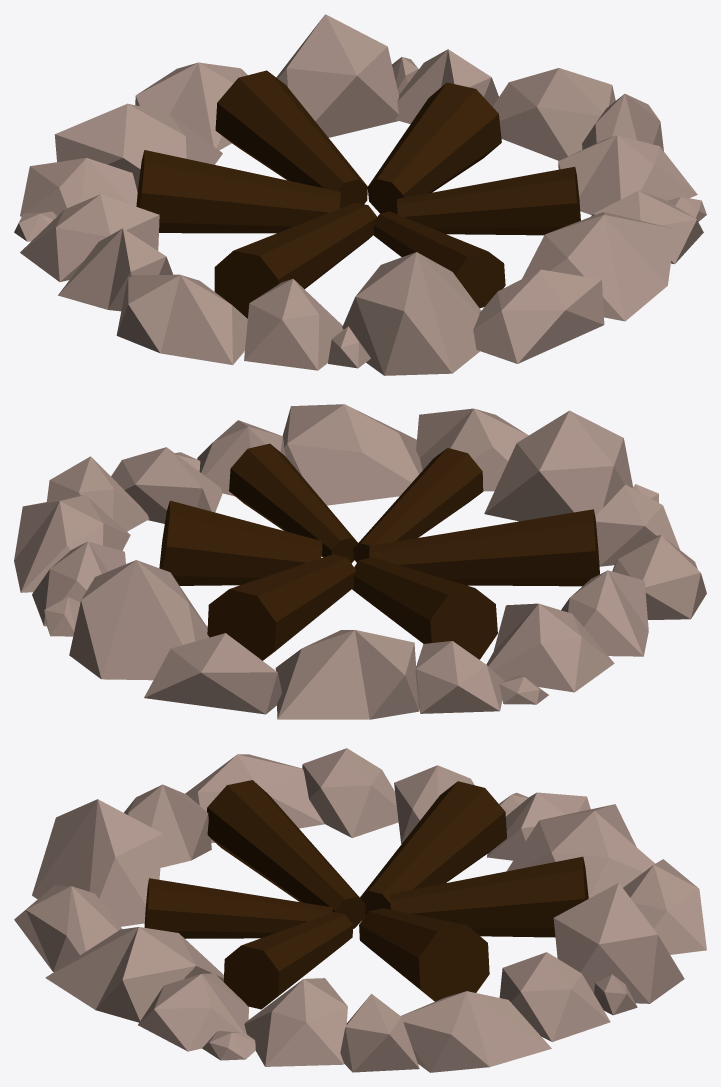
File: firepit.fbx
3 renders of one model, top to bottom at view 1: azimuth 30°, elevation 25°; view 2: azimuth 150°, elevation 25°; view 3: azimuth 270°, elevation 25°, orthographic. The views are drawn at different scales.
Parts seen in each view (by area): view 1: rock_GEO10, pCylinder2, pCylinder1, rock_GEO1, rock_GEO7, pCylinder6, pCylinder5, rock_GEO13, rock_GEO9, pCylinder3, rock_GEO4, rock1:rock_GEO2 (+13 smaller); view 2: pCylinder3, rock_GEO1, rock1:rock_GEO2, rock_GEO10, rock_GEO7, pCylinder6, pCylinder1, pCylinder2, rock2:rock_GEO3, rock_GEO3, pCylinder5, rock_GEO4 (+12 smaller); view 3: rock_GEO10, pCylinder3, pCylinder1, rock_GEO1, rock_GEO7, pCylinder2, rock_GEO4, pCylinder6, pCylinder4, rock1:rock_GEO2, rock_GEO6, pCylinder5 (+12 smaller).
Part boxes in pixels (x1,y1,x2,y2): rock_GEO10: (342, 252, 481, 375); pCylinder2: (136, 150, 340, 233); pCylinder1: (215, 70, 367, 208); rock_GEO1: (276, 14, 398, 137); rock_GEO7: (522, 212, 675, 321); pCylinder6: (368, 82, 501, 214); pCylinder5: (397, 166, 580, 235); rock_GEO13: (116, 274, 247, 364); rock_GEO9: (473, 269, 604, 363); pCylinder3: (214, 202, 376, 318); rock_GEO4: (493, 68, 615, 160); rock1:rock_GEO2: (54, 103, 222, 191); pCylinder3: (369, 509, 599, 586); rock_GEO1: (69, 560, 209, 680); rock1:rock_GEO2: (275, 630, 419, 719); rock_GEO10: (484, 410, 632, 521); rock_GEO7: (282, 404, 422, 505); pCylinder6: (159, 500, 322, 585); pCylinder1: (207, 554, 355, 660); pCylinder2: (352, 557, 497, 659); rock2:rock_GEO3: (486, 603, 614, 692); rock_GEO3: (144, 633, 281, 714); pCylinder5: (229, 443, 358, 563); rock_GEO4: (14, 495, 130, 592); rock_GEO10: (32, 799, 162, 926); pCylinder3: (207, 780, 365, 928); pCylinder1: (390, 856, 588, 937); rock_GEO1: (553, 883, 684, 1003); rock_GEO7: (45, 927, 223, 1022); pCylinder2: (360, 781, 506, 915); rock_GEO4: (401, 991, 551, 1072); pCylinder6: (359, 908, 489, 1001); pCylinder4: (144, 878, 332, 938); rock1:rock_GEO2: (507, 804, 655, 898); rock_GEO6: (244, 978, 347, 1066); pCylinder5: (223, 912, 352, 1009).
Bounding box in the file's own units: 97.53 × 15.34 × 100.
